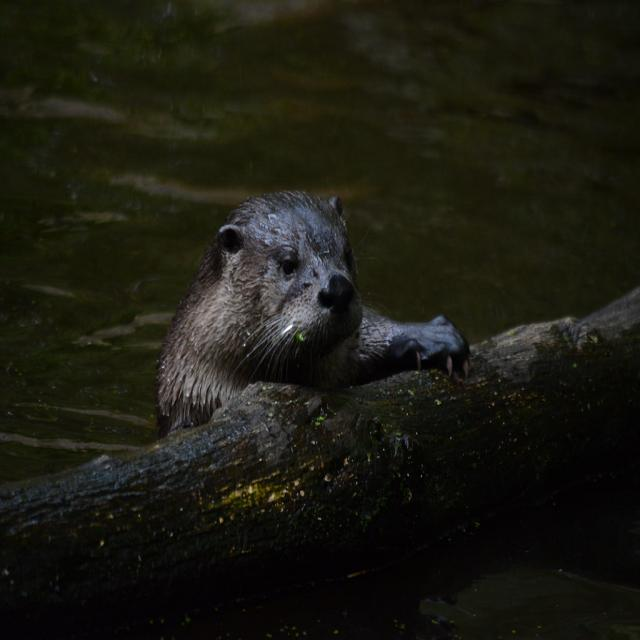otter: (163, 191, 468, 417)
